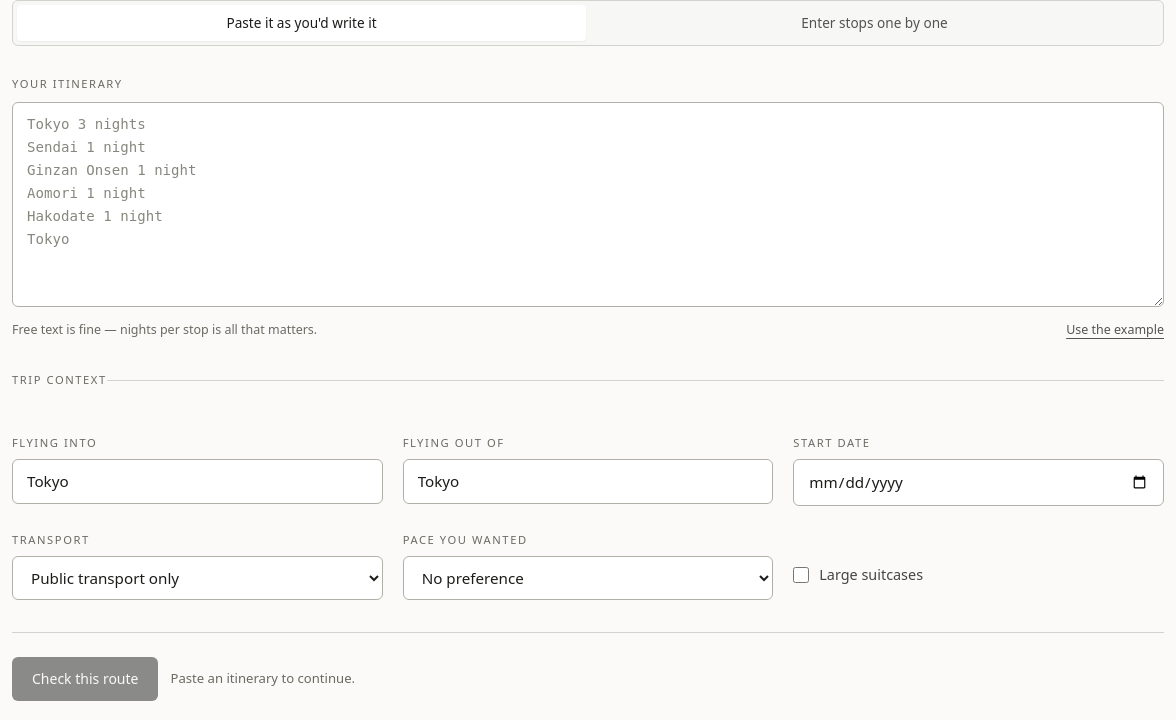
RouteCheckForm › explains when the analysis service cannot be reached at all
What coordinates should you click on to do the following:
click the button "Use the example"
I would click on:
 (1115, 331)
Its box is [1066,321,1164,340].
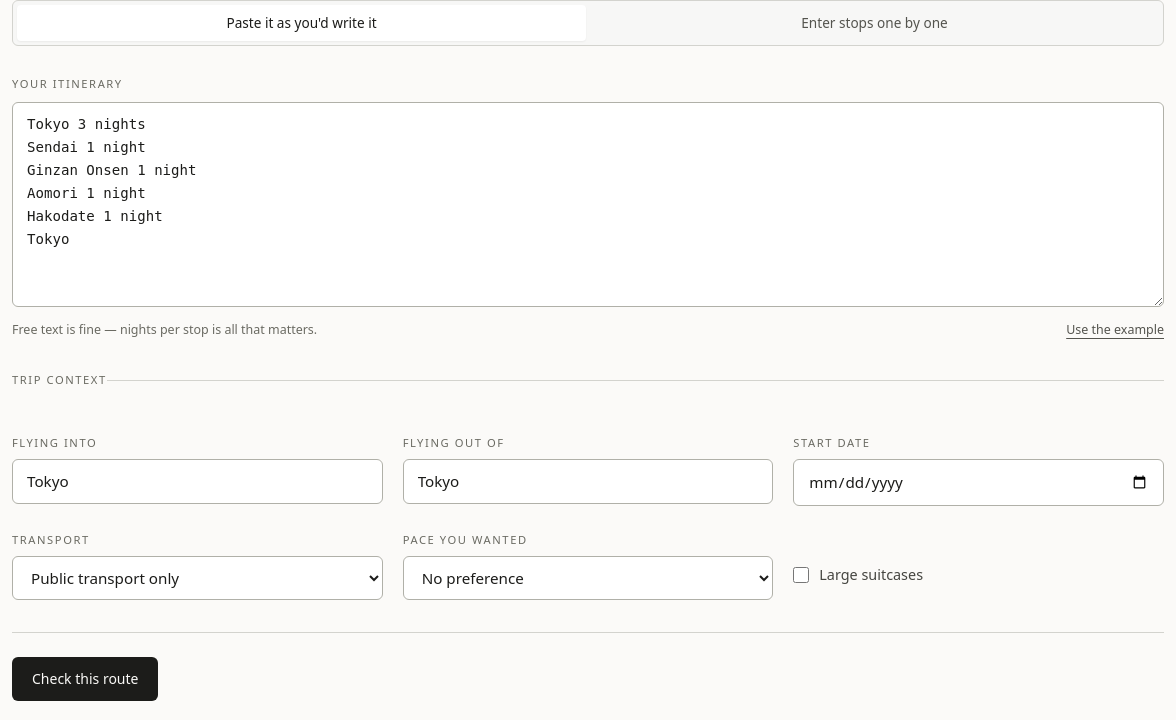
What coordinates should you click on to do the following:
click the button "Check this route"
I would click on:
 (85, 679)
Its box is [12,657,158,701].
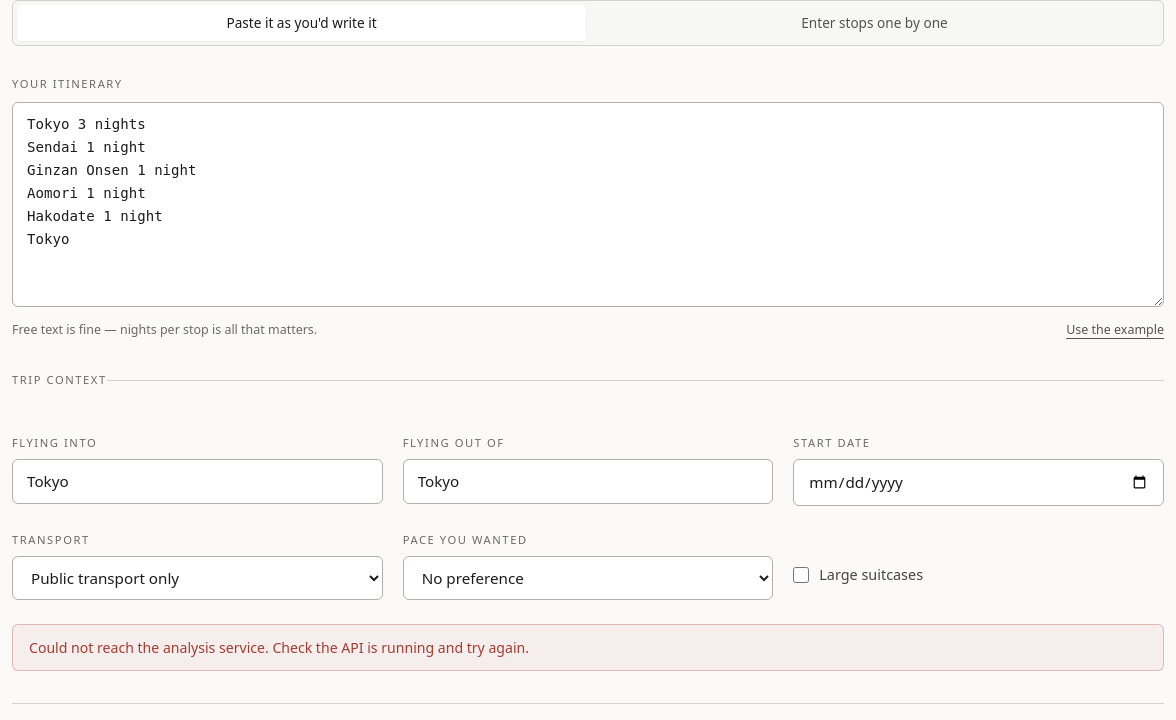
Result: the message shows "Could not reach the analysis service" at [29,638,529,657]
